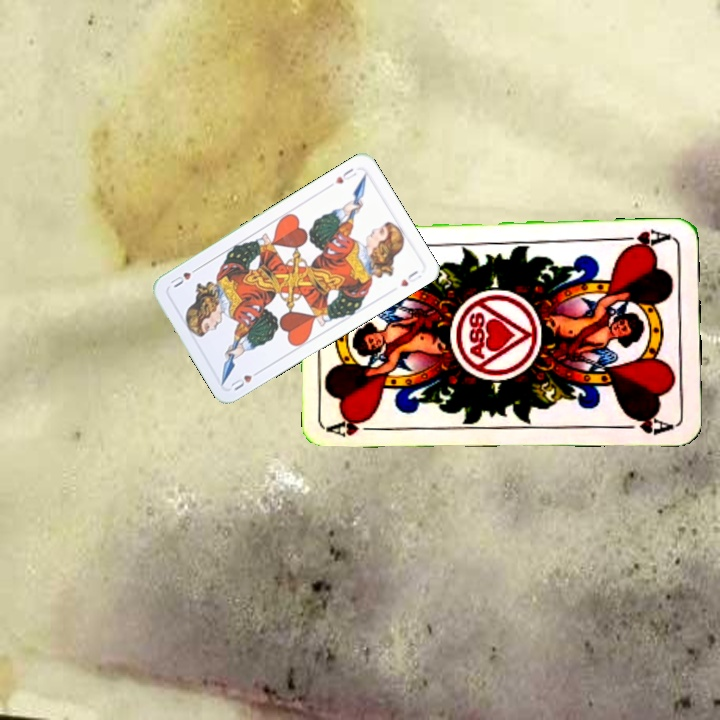HA: (615, 225, 674, 252), (326, 414, 385, 440)
HU: (227, 366, 264, 393), (331, 164, 359, 186)
